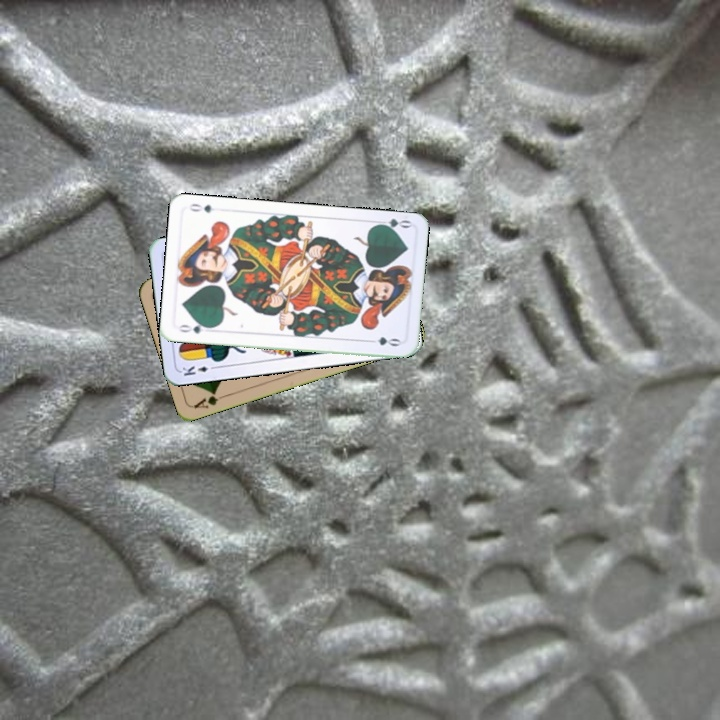EK: (178, 362, 219, 378)
GA: (190, 388, 230, 411)
GO: (372, 214, 413, 234), (174, 319, 215, 336)
